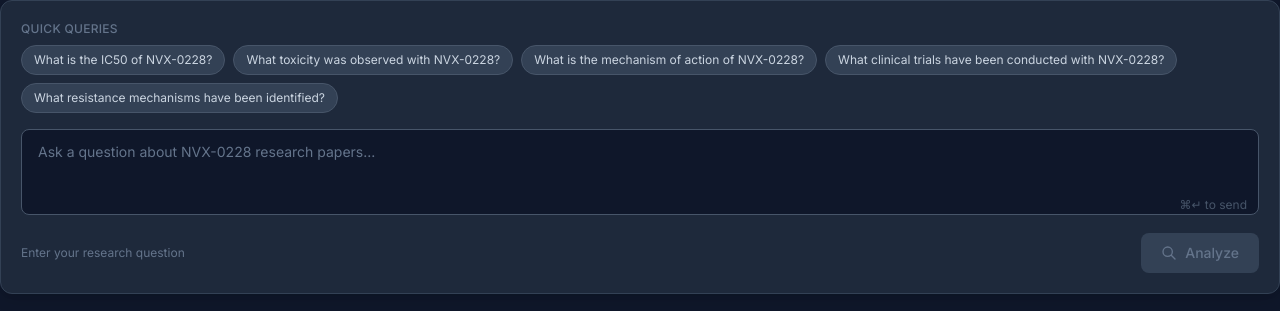
QueryBox › clicking chip populates input
Click the button with test id "query-chip" at (123, 60), box 21,45 -> 225,75
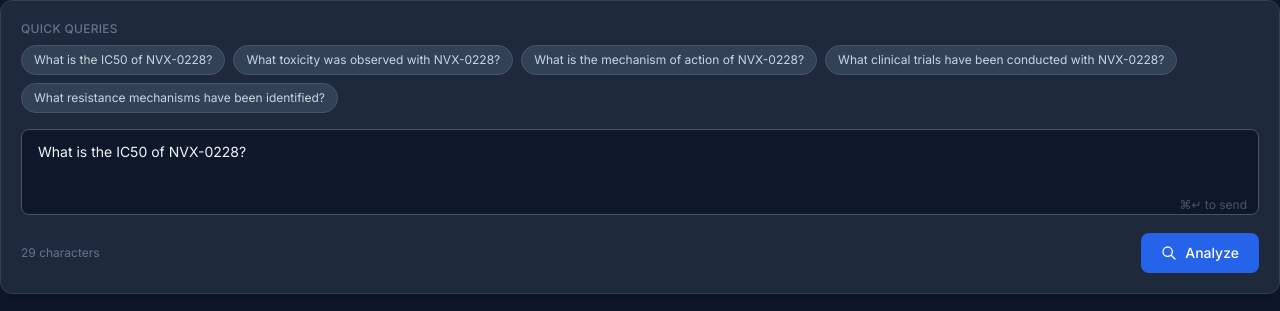
Result: the text box with test id "query-input" holds "What is the IC50 of NVX-0228?" at 21,129 -> 1259,215
